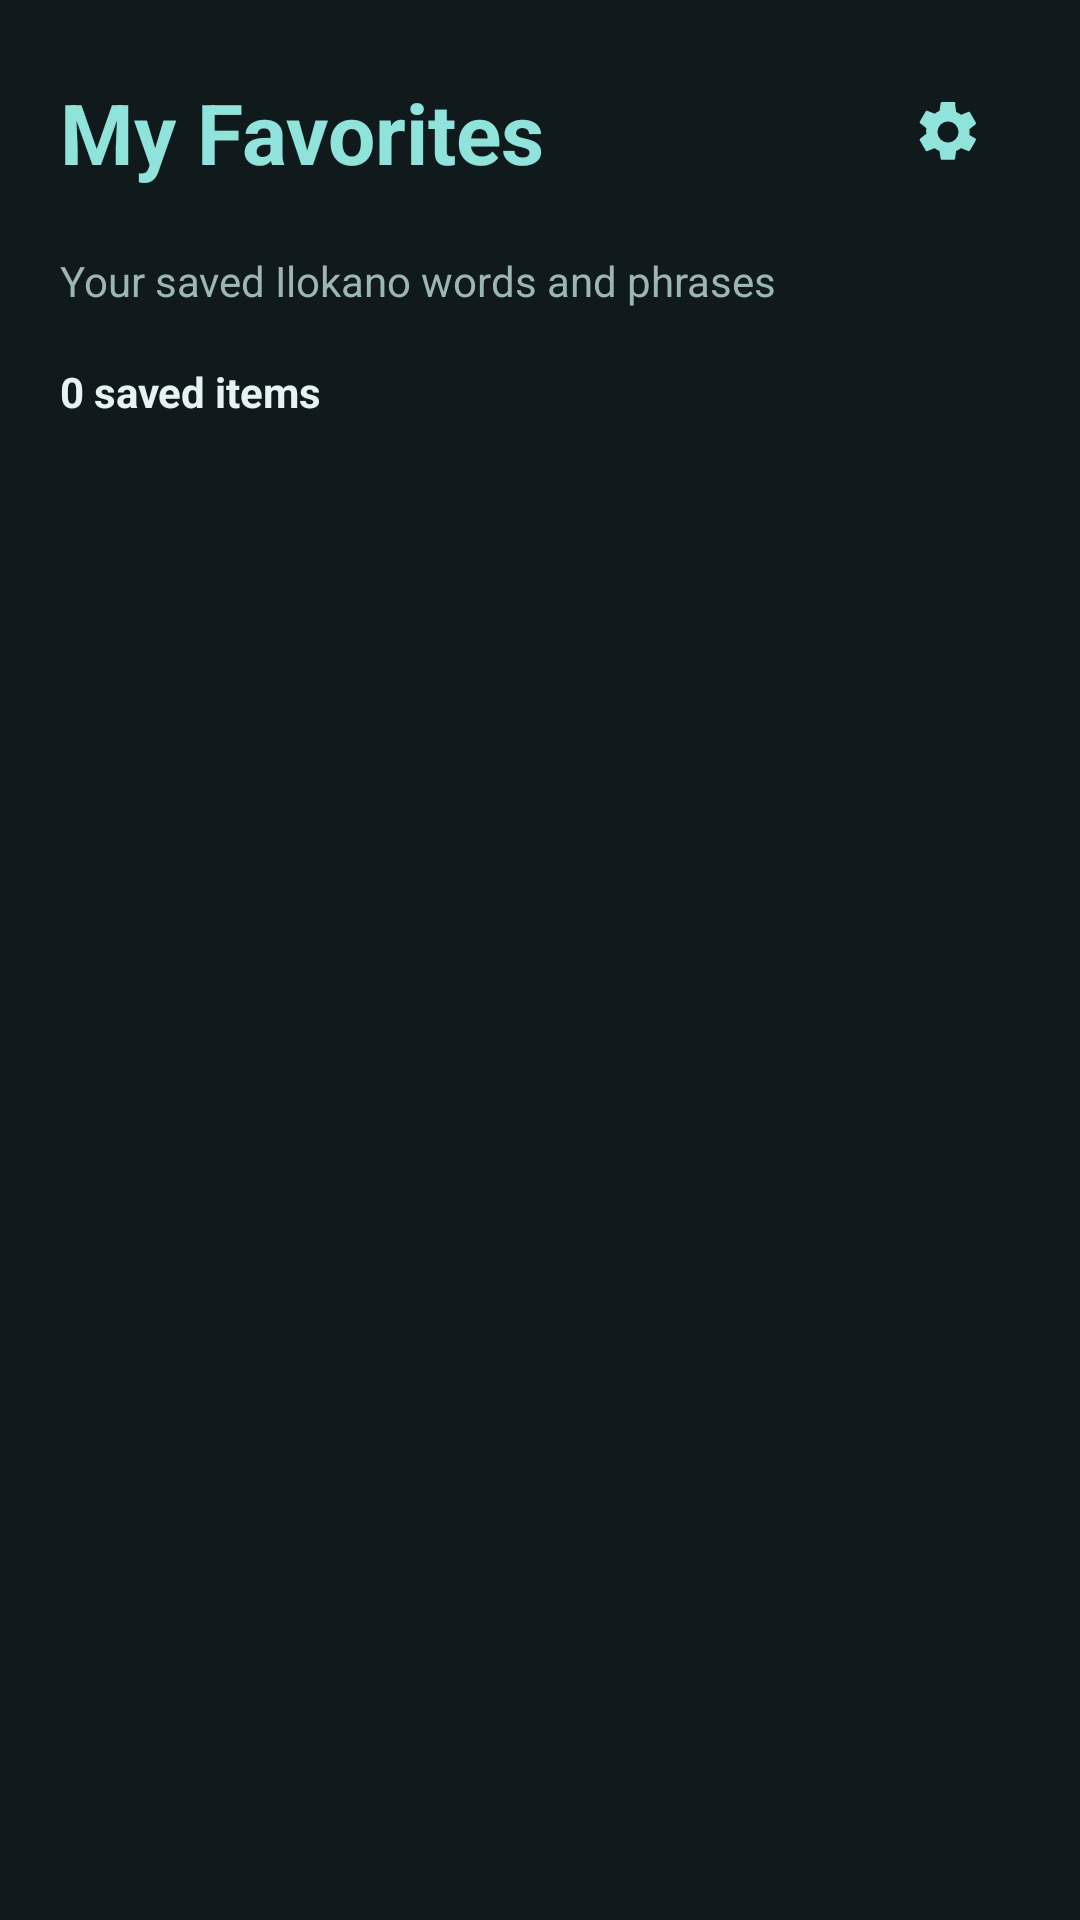

Icons on this 1080x1920 Android screen, each with the point to tap as (x,y):
Open settings menu: (947,131)
